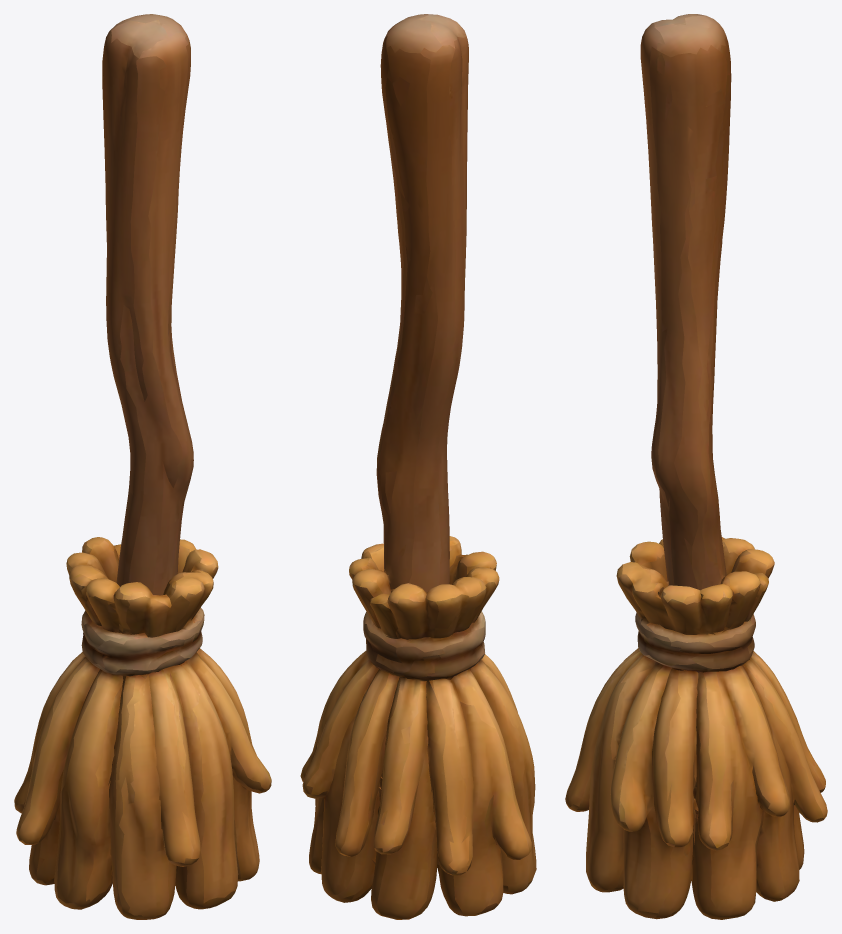
The model's file is x-broom.glb.
3 renders of one model, left to right at view 1: azimuth 30°, elevation 25°; view 2: azimuth 150°, elevation 25°; view 3: azimuth 270°, elevation 25°, orthographic.
Parts seen in each view (by area): view 1: geometry_0; view 2: geometry_0; view 3: geometry_0.
Boxes of the visible parts, x1=… form: geometry_0: x1=14, y1=14, x2=271, y2=919; geometry_0: x1=300, y1=14, x2=536, y2=919; geometry_0: x1=565, y1=14, x2=827, y2=919.
Bounding box in the file's own units: 0.35 × 1.27 × 0.3508.
1 material, 1 textured.
